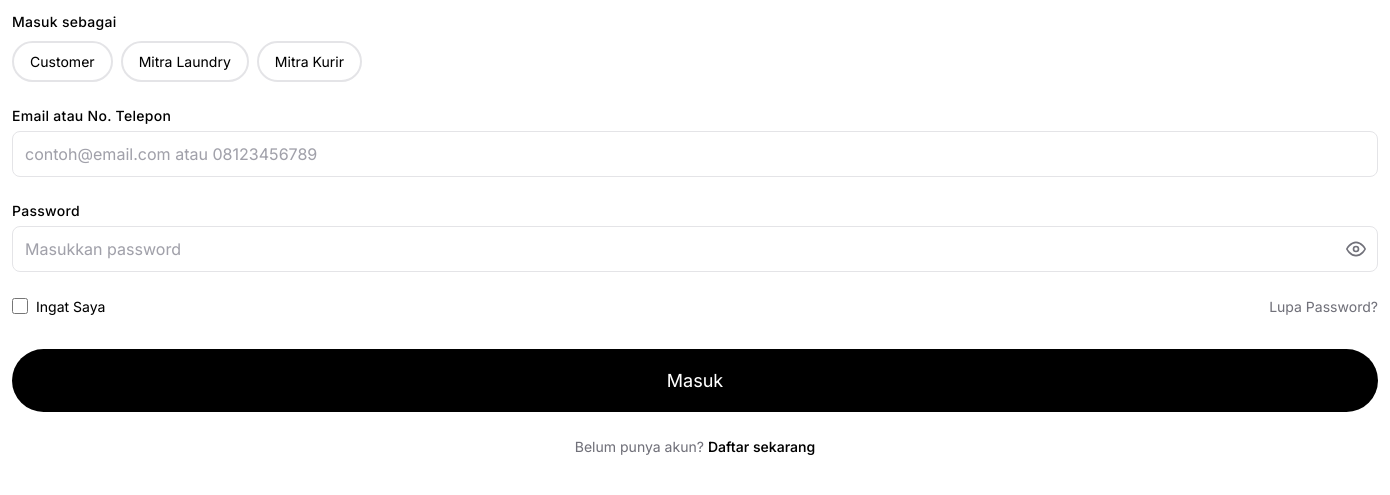
Test: LoginForm › form validation › shows error for short email/phone input
Step 1. Click the button "Customer" → click(62, 61), box left=12, top=41, right=113, bottom=82
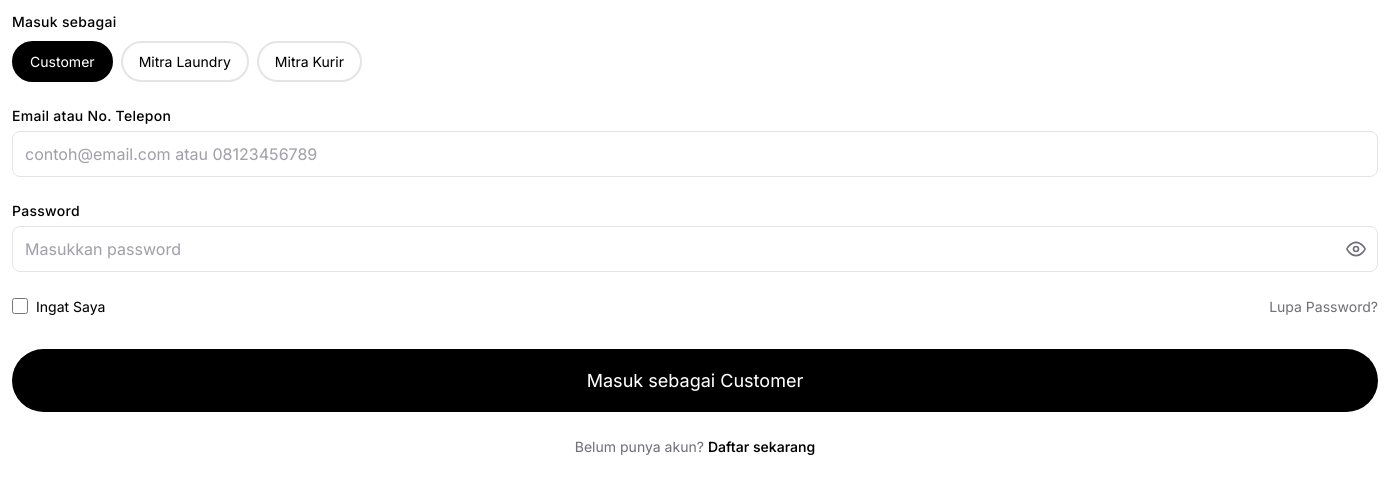
Step 2. Type "ab" into the field labelled "Email atau No. Telepon" → (695, 154), box left=12, top=131, right=1378, bottom=177
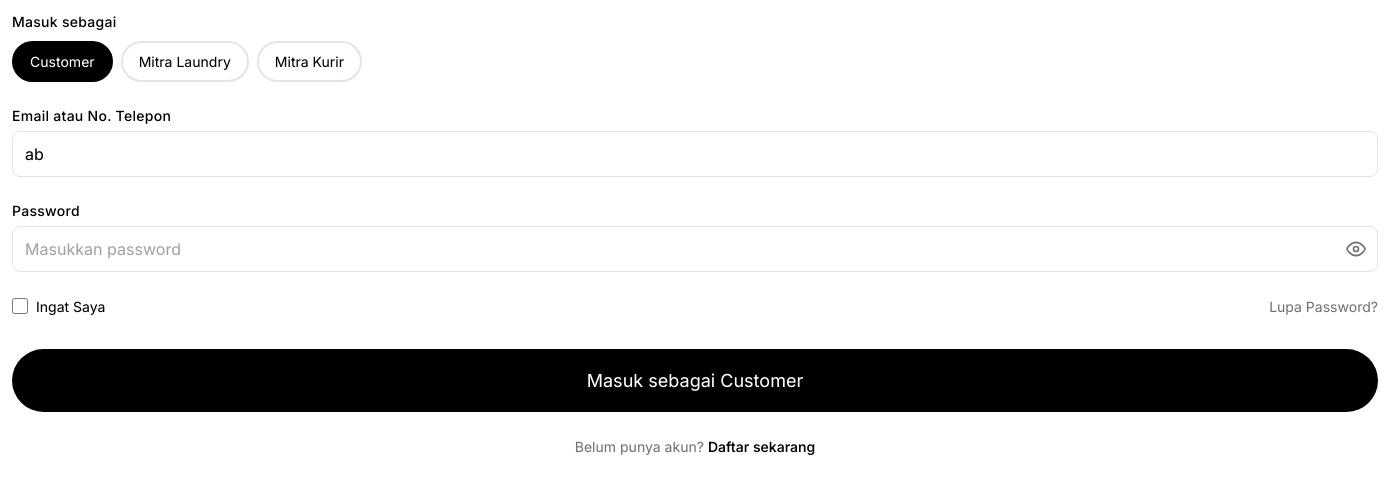
Step 3. Type "password123" into the password field labelled "Password" → (695, 249), box left=12, top=226, right=1378, bottom=272
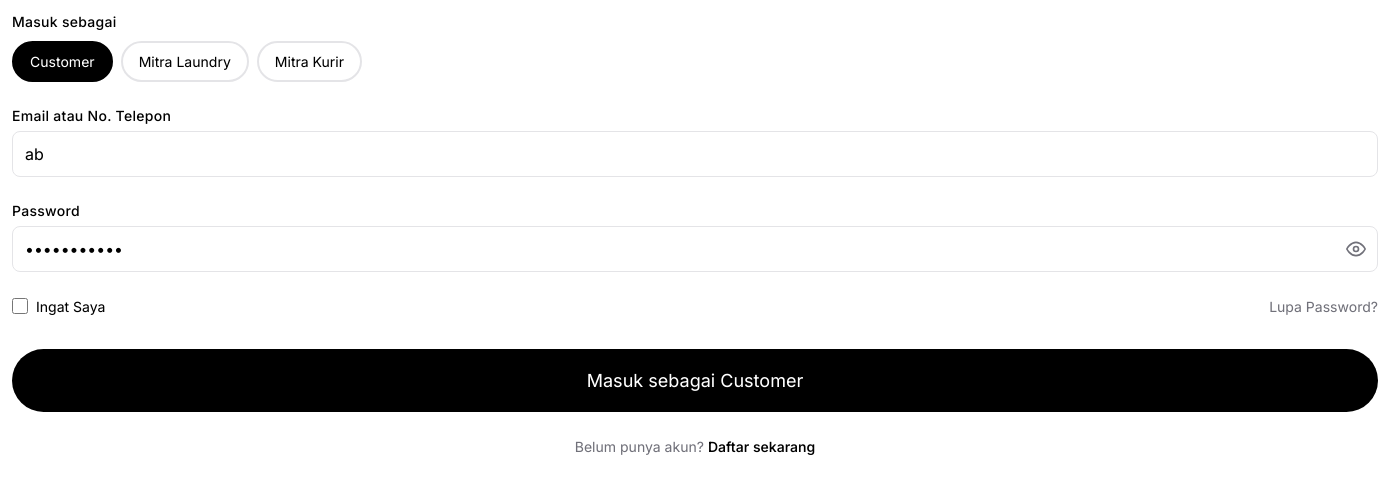
Step 4. Click the button "Masuk sebagai Customer" → click(695, 380), box left=12, top=349, right=1378, bottom=412
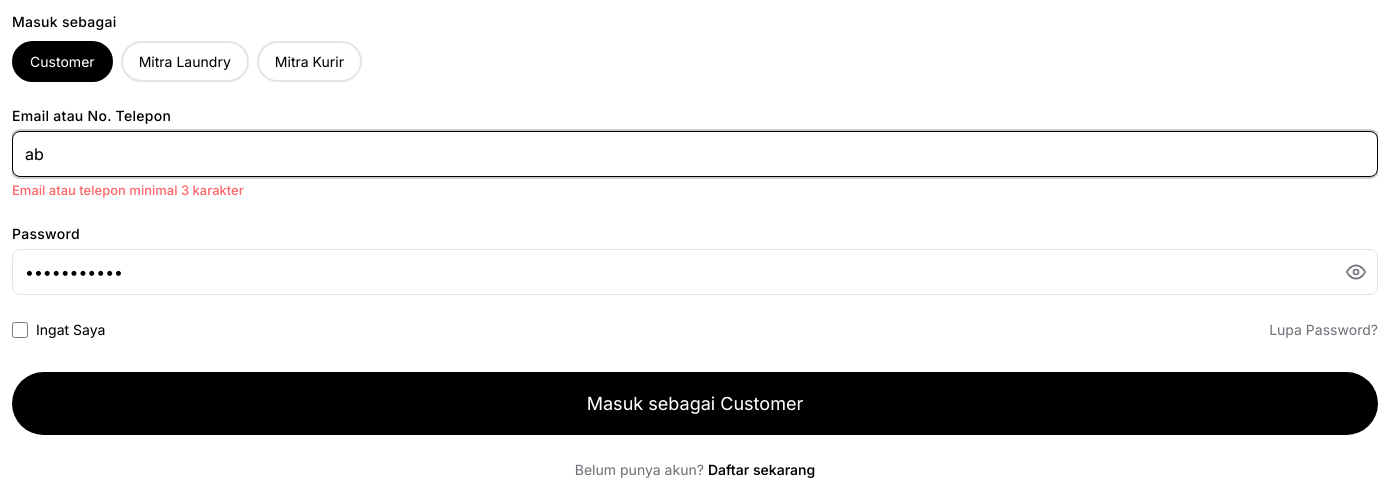
Expected: the text "Email atau telepon minimal 3 karakter" is shown, left=12, top=182, right=244, bottom=198
